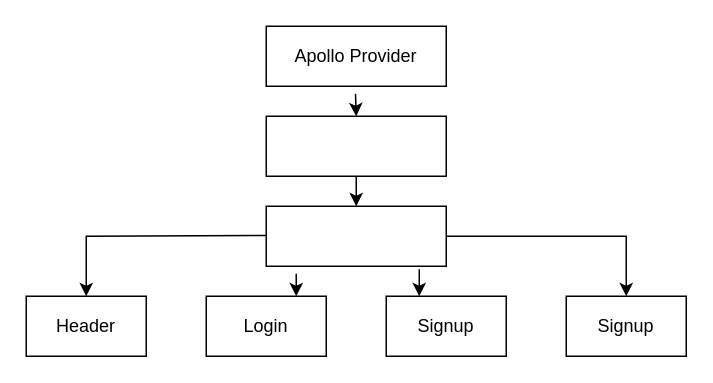
Image size: 713x383. Some labels were removed from this diagram. The centre of each missing label's shape, as x and y in pixels:
"App" belongs at (x=355, y=235).
"React Router" belongs at (x=355, y=145).
